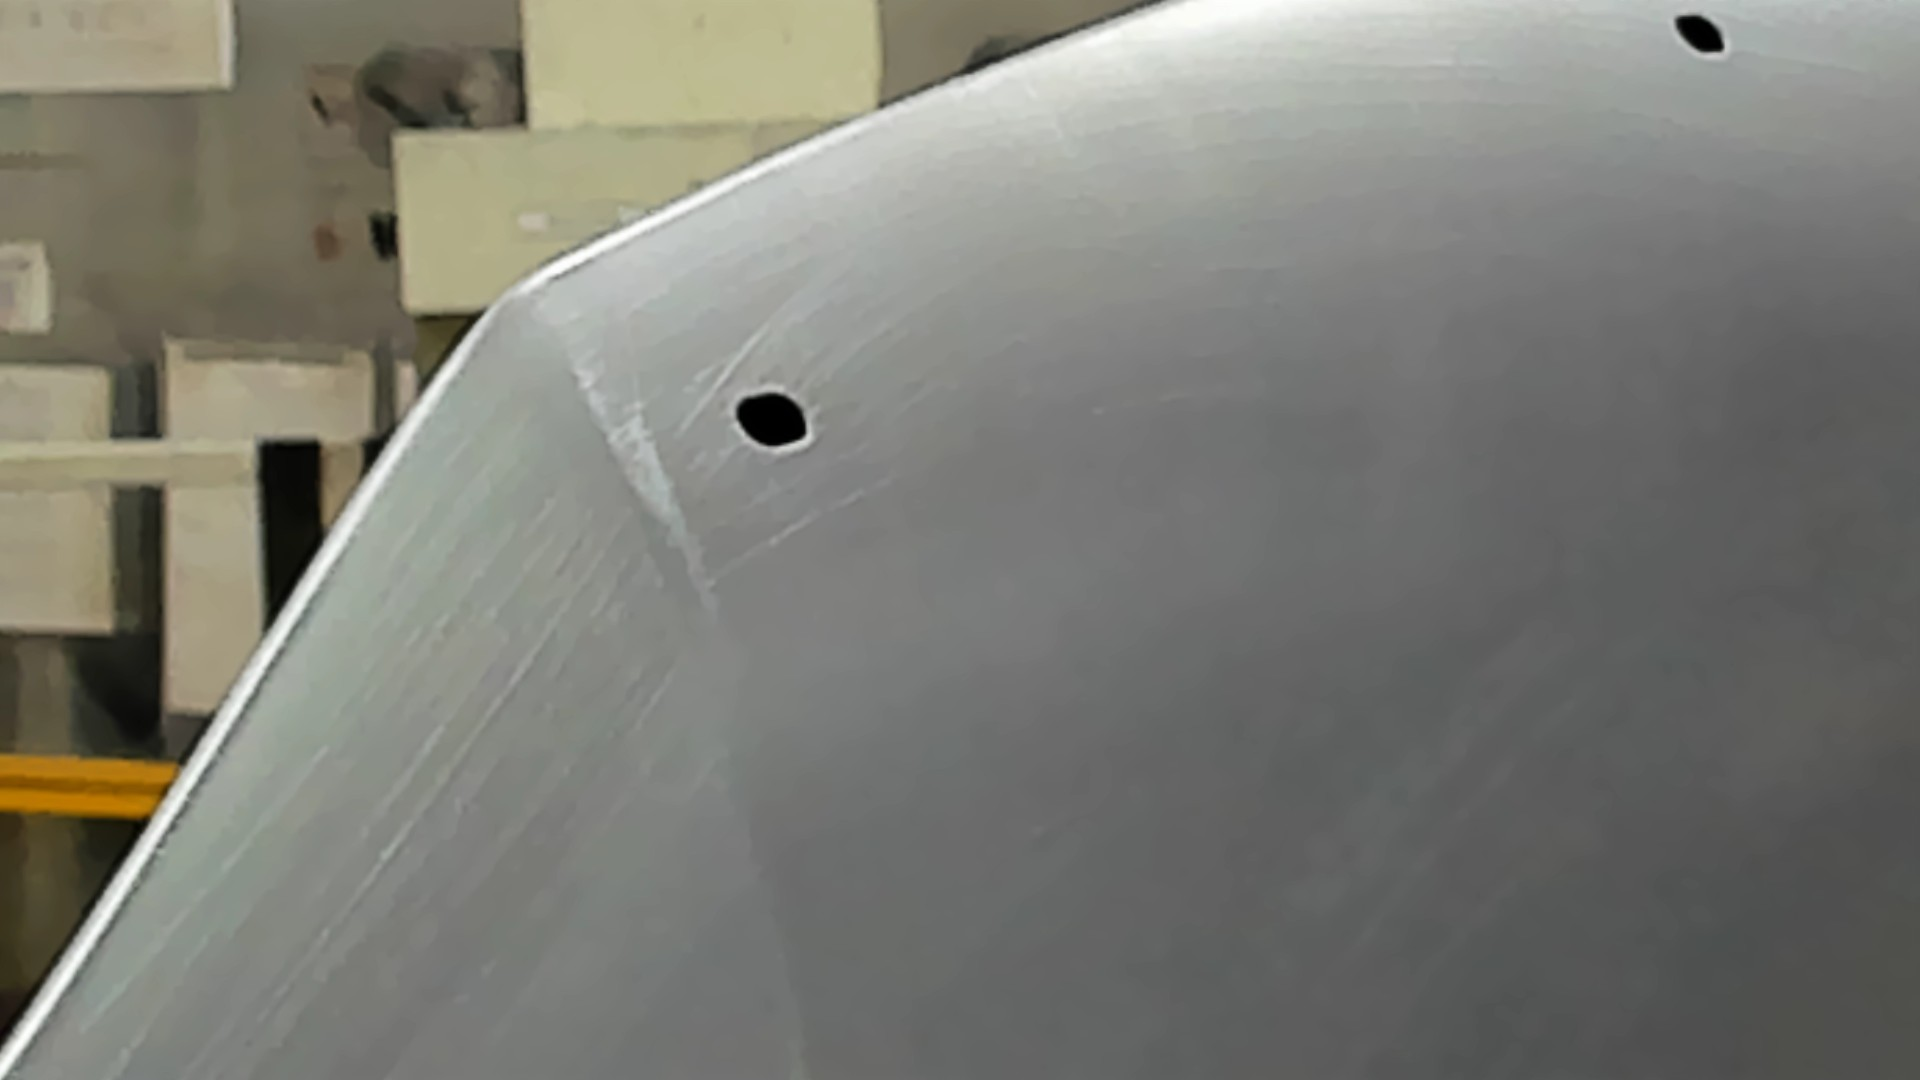amorfo: (731, 386, 814, 451), (1664, 5, 1737, 63)
